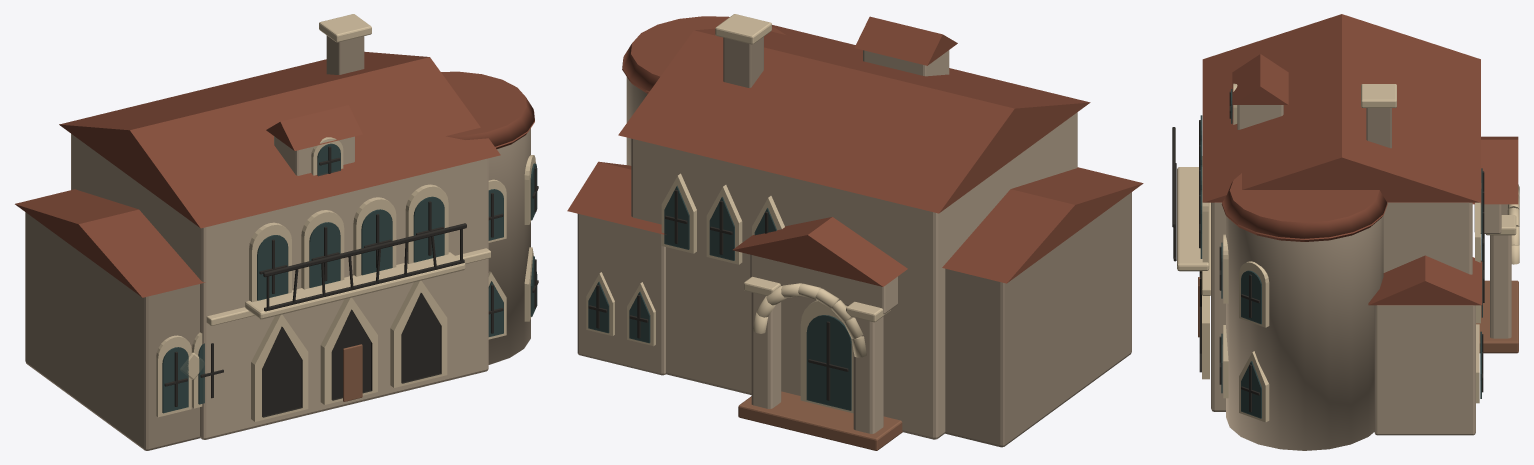
File: sun-ke-villa-identity.glb
3 views of the same model, side by side, from view 1: azimuth 30°, elevation 25°; view 2: azimuth 150°, elevation 25°; view 3: azimuth 270°, elevation 25° (orthographic). The views are drawn at different scales.
Parts seen in each view (by area): view 1: SunKeVilla_Identity; view 2: SunKeVilla_Identity; view 3: SunKeVilla_Identity.
Part boxes in pixels (x1=…): SunKeVilla_Identity: x1=15, y1=14, x2=538, y2=450; SunKeVilla_Identity: x1=567, y1=14, x2=1143, y2=450; SunKeVilla_Identity: x1=1172, y1=14, x2=1519, y2=450.
Size of the model in its own units: 7.58 by 5.05 by 5.42.
